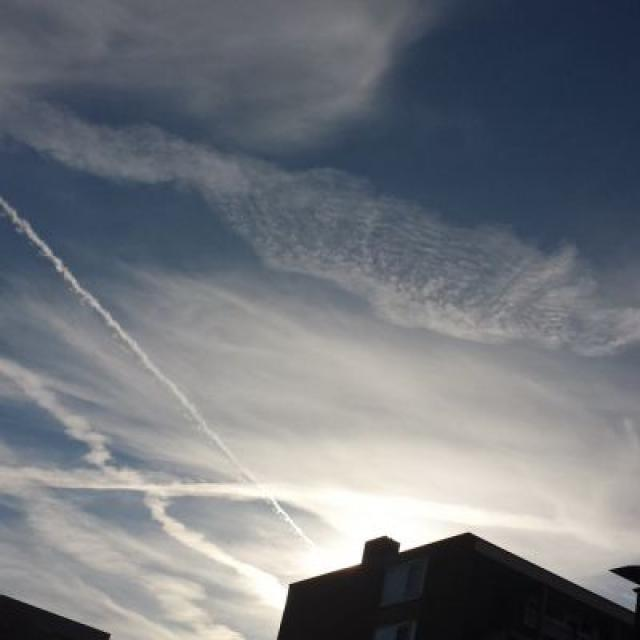Ct: (1, 81, 640, 504)
